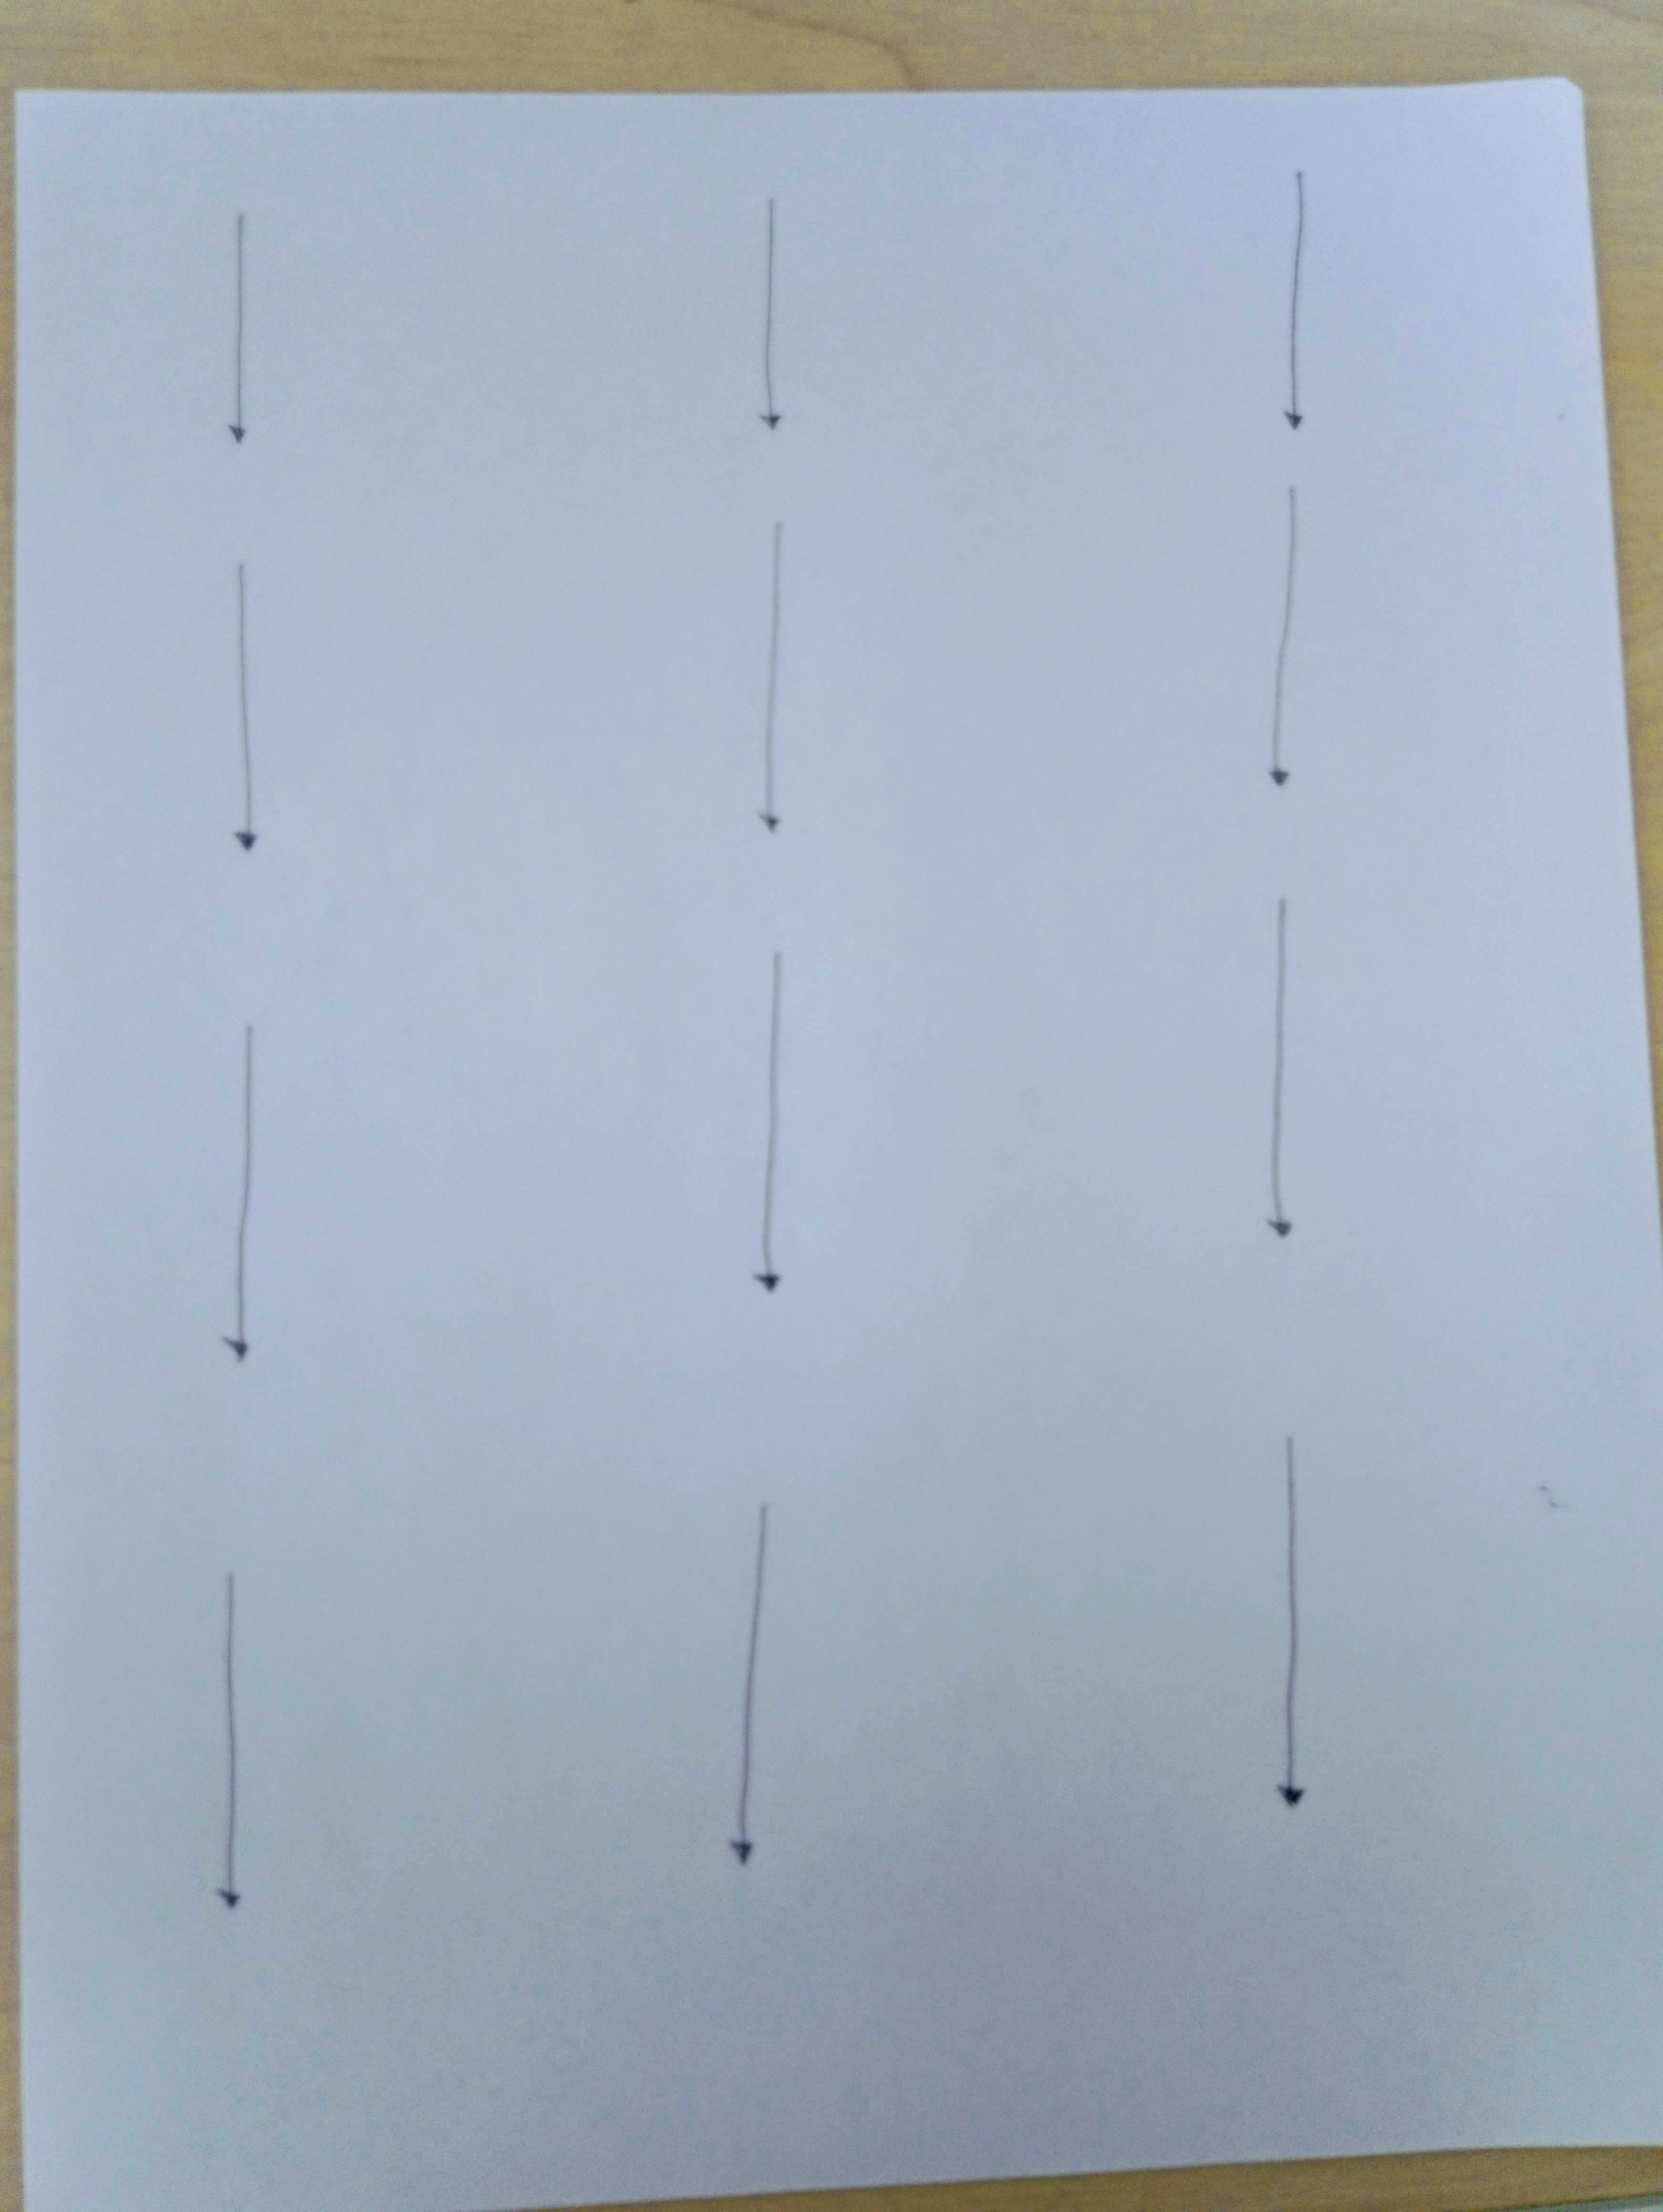arrow_line_down: (1244, 1444, 1350, 1835), (727, 965, 833, 1308), (1247, 892, 1333, 1257), (203, 1018, 290, 1374), (716, 1521, 797, 1894), (746, 545, 826, 845), (1266, 152, 1347, 452), (196, 1557, 257, 1927), (1254, 498, 1328, 798), (730, 192, 811, 461), (220, 559, 290, 864), (199, 218, 283, 464)
